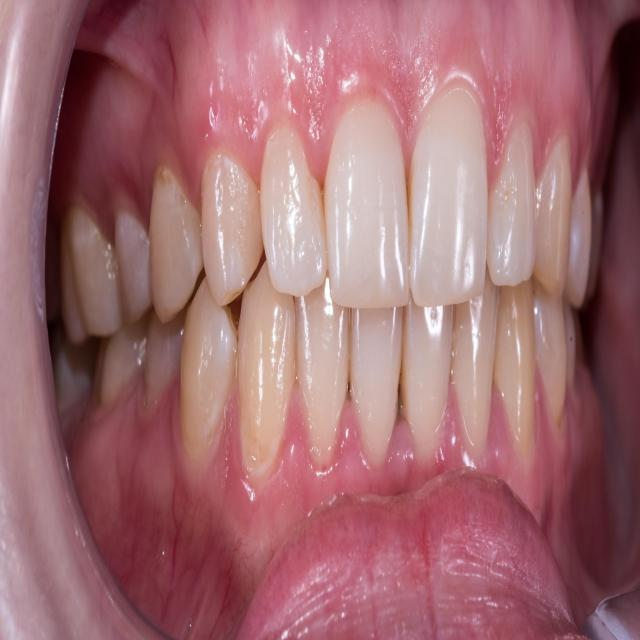tooth: (407, 83, 488, 308), (323, 101, 410, 308), (237, 261, 297, 465), (260, 124, 327, 296), (180, 277, 238, 451), (294, 270, 350, 449), (201, 146, 263, 307), (450, 260, 500, 446), (149, 161, 203, 324), (399, 289, 455, 444), (349, 306, 404, 458), (486, 122, 536, 286), (493, 276, 536, 454), (534, 137, 572, 295), (531, 274, 567, 427), (143, 301, 192, 407), (114, 211, 153, 321), (563, 164, 592, 309)
